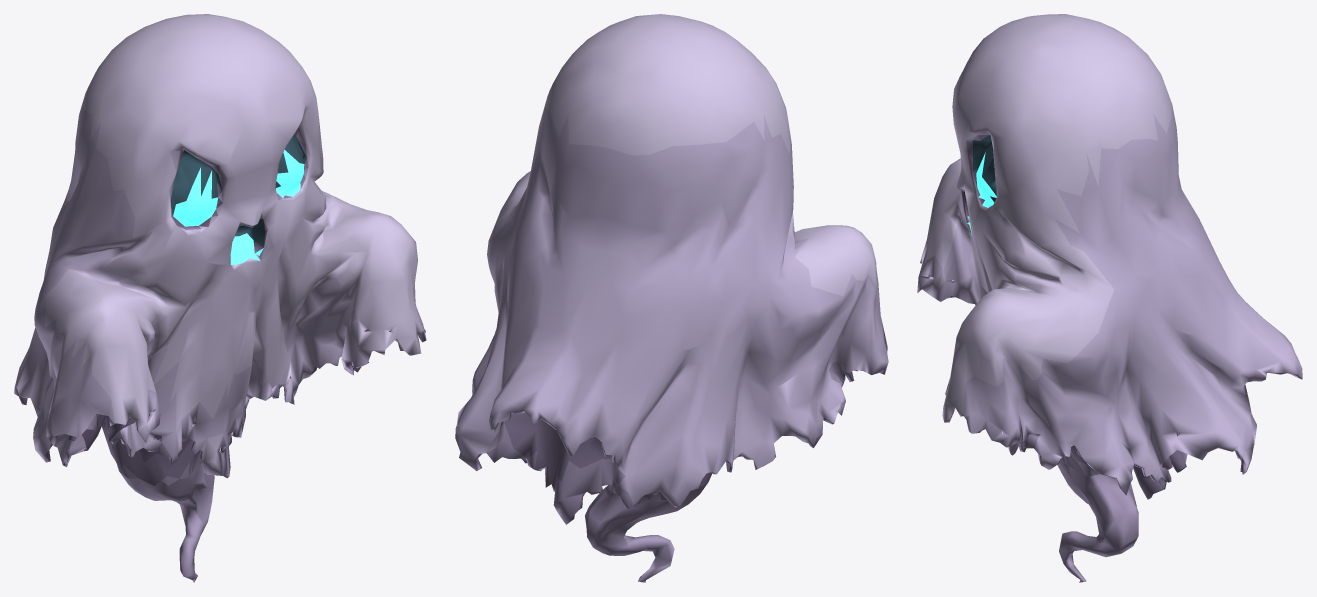
The model's file is wispra.glb.
The picture shows the model from 3 angles, left to right: view 1: azimuth 30°, elevation 25°; view 2: azimuth 150°, elevation 25°; view 3: azimuth 270°, elevation 25°; orthographic projection. The views are drawn at different scales.
Parts seen in each view (by area): view 1: wispra, tail; view 2: wispra, tail; view 3: wispra, tail.
Part boxes in pixels (x1=…): wispra: x1=14, y1=14, x2=426, y2=485; tail: x1=120, y1=462, x2=214, y2=582; wispra: x1=455, y1=14, x2=888, y2=524; tail: x1=585, y1=483, x2=707, y2=582; wispra: x1=917, y1=14, x2=1302, y2=499; tail: x1=1057, y1=461, x2=1138, y2=582.
Bounding box in the file's own units: 0.9613 × 1.35 × 0.8512.
